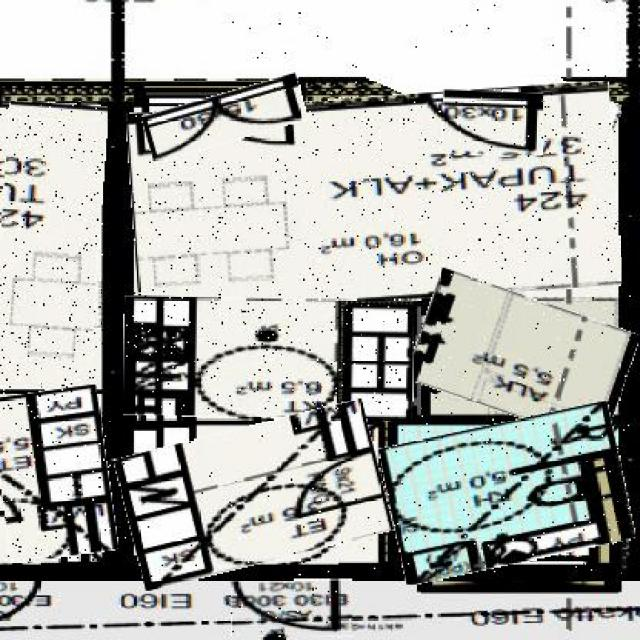door: (143, 83, 306, 152), (231, 580, 352, 637), (443, 91, 543, 154)
zone: (130, 89, 618, 309), (123, 0, 625, 126), (120, 414, 388, 577), (385, 412, 629, 574), (124, 297, 413, 418), (412, 283, 634, 431), (0, 100, 103, 391), (0, 387, 112, 560)
